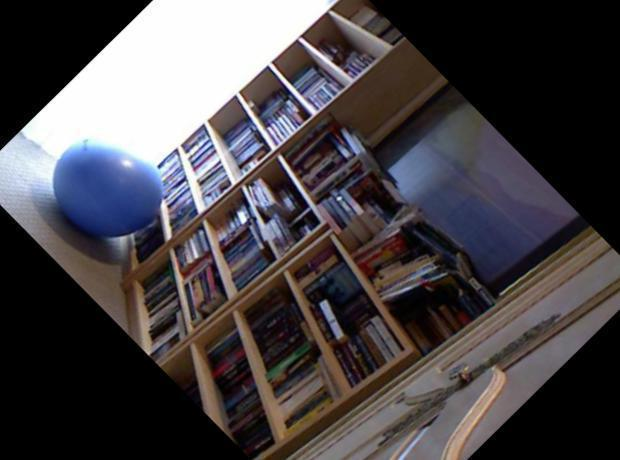Otro Obstaculo: (34, 111, 188, 265)
